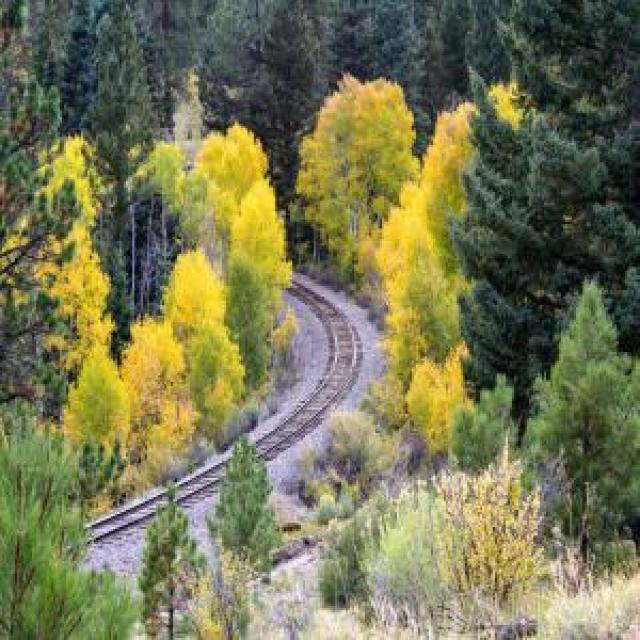rail: (24, 272, 373, 578)
